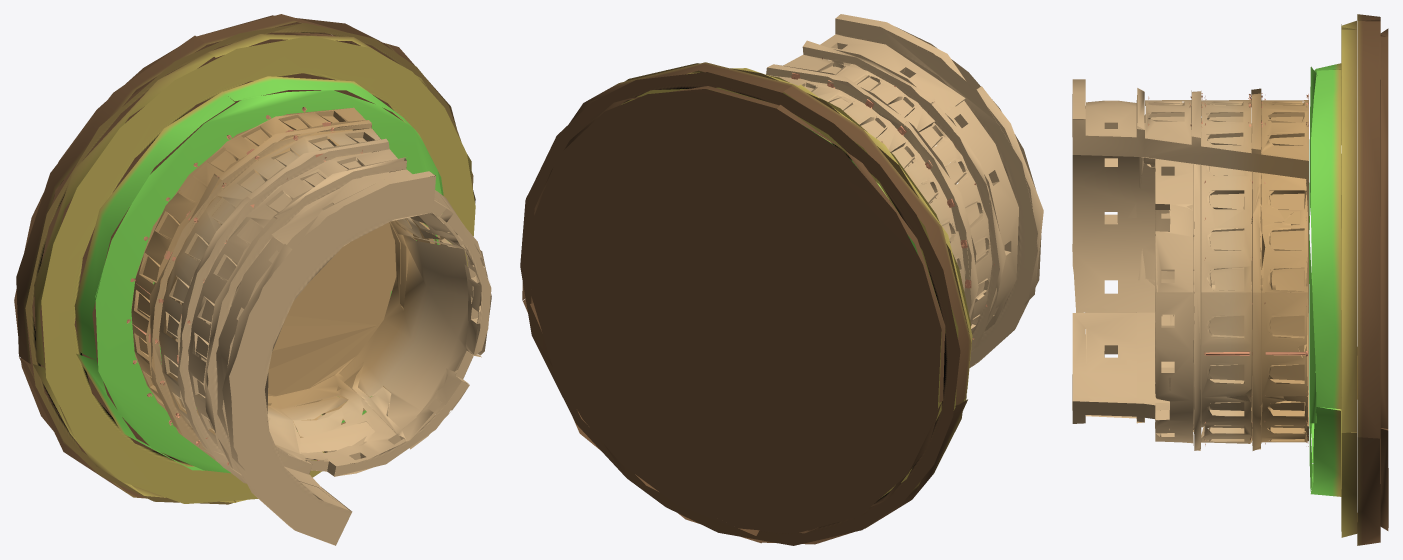
The model's file is colosseum_gits3d.glb.
The picture shows the model from 3 angles, left to right: view 1: azimuth 30°, elevation 25°; view 2: azimuth 150°, elevation 25°; view 3: azimuth 270°, elevation 25°; orthographic projection. The views are drawn at different scales.
Parts seen in each view (by area): view 1: Cylinder_Bake_0; view 2: Cylinder_Bake_0; view 3: Cylinder_Bake_0.
Boxes of the visible parts, x1=… form: Cylinder_Bake_0: x1=14, y1=14, x2=491, y2=545; Cylinder_Bake_0: x1=520, y1=14, x2=1043, y2=545; Cylinder_Bake_0: x1=1072, y1=14, x2=1388, y2=545.
Bounding box in the file's own units: 5.11 × 5.08 × 3.03.
1 material, 1 textured.
